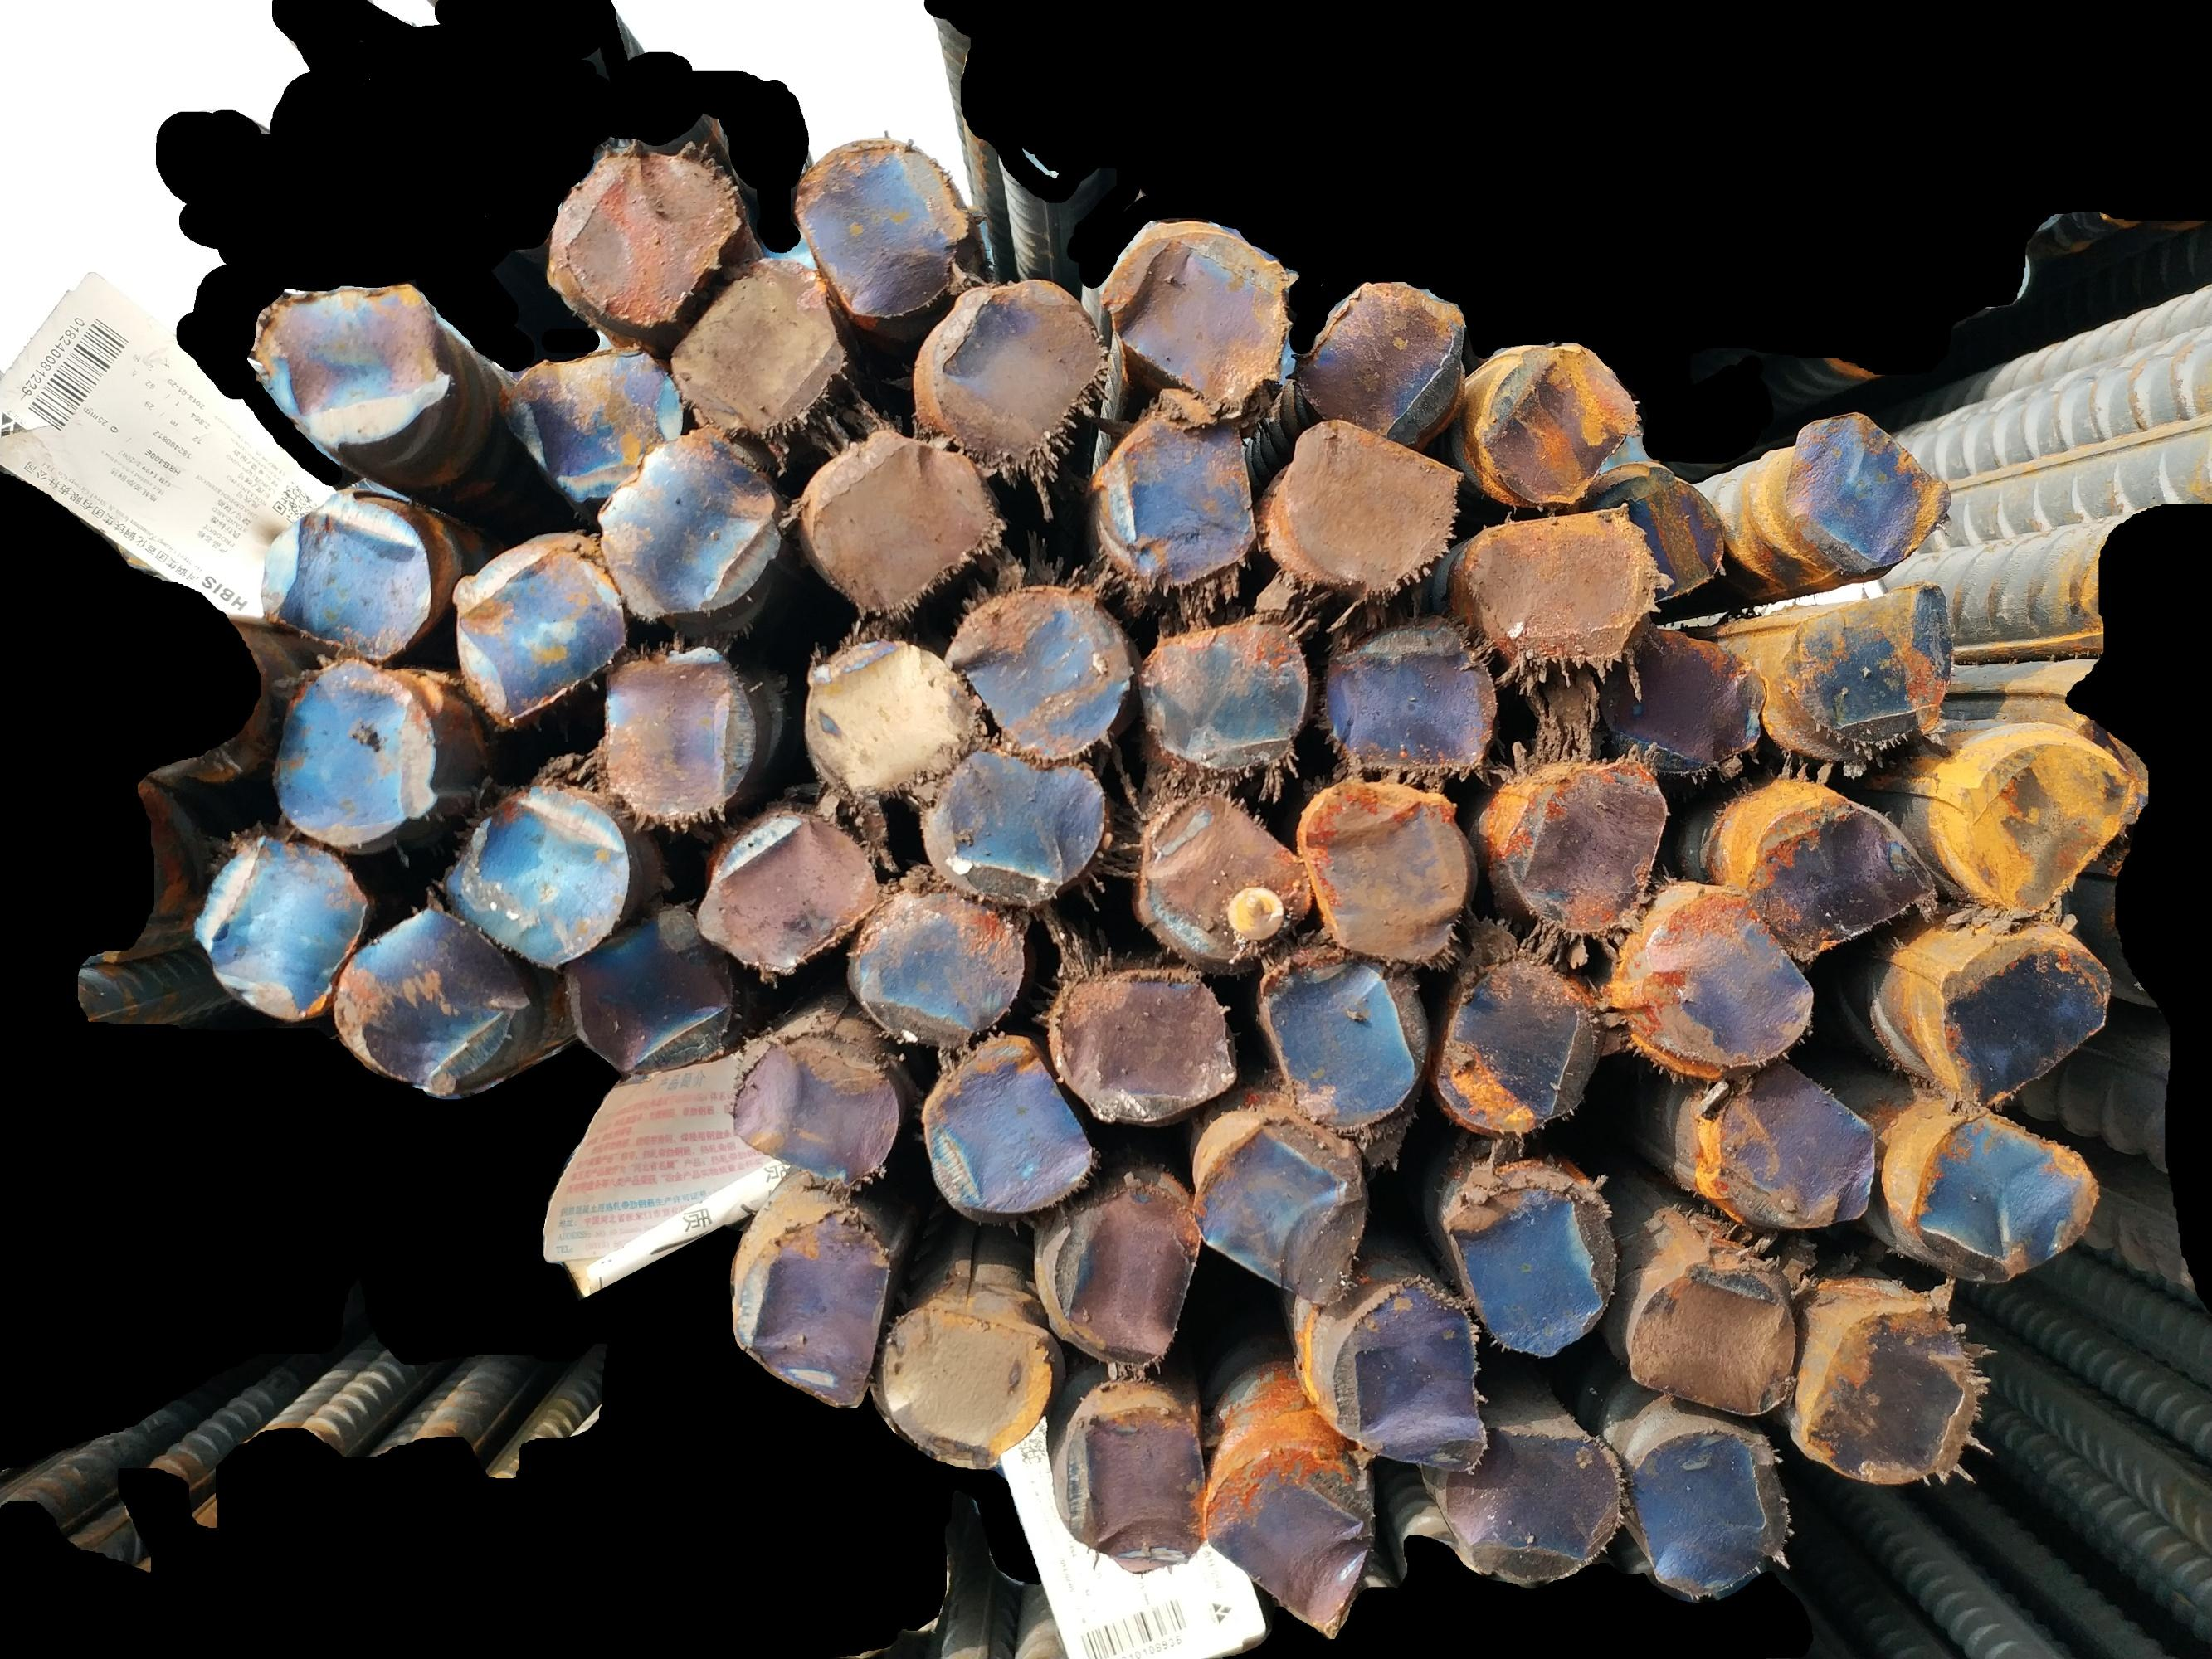bar: (1096, 209, 1306, 429), (539, 131, 753, 336), (1928, 728, 2144, 931), (1604, 880, 1825, 1077), (795, 423, 1011, 624), (326, 899, 533, 1100), (912, 274, 1121, 472), (593, 415, 786, 629), (933, 570, 1140, 767), (1262, 411, 1471, 606), (1191, 1436, 1386, 1645), (1086, 385, 1269, 601), (1410, 1412, 1628, 1593), (784, 127, 981, 328), (1459, 497, 1673, 680), (718, 1201, 901, 1415), (1292, 767, 1482, 972), (1797, 1293, 1992, 1492), (1487, 744, 1680, 943), (446, 526, 634, 730), (261, 650, 446, 857), (239, 277, 457, 451), (1041, 951, 1250, 1133), (1314, 1270, 1496, 1480), (439, 777, 631, 974), (1124, 779, 1321, 971), (661, 247, 849, 448), (1907, 1103, 2107, 1291), (1248, 934, 1431, 1140), (917, 1025, 1107, 1222), (187, 828, 375, 1026), (1428, 939, 1609, 1145), (1773, 570, 1964, 762), (1734, 795, 1945, 969), (1185, 1119, 1372, 1314), (685, 803, 887, 983), (1930, 924, 2120, 1114), (554, 890, 743, 1082), (1037, 1169, 1210, 1378), (1433, 1171, 1621, 1363), (919, 734, 1116, 915), (795, 633, 988, 816), (1313, 606, 1511, 784), (1464, 338, 1666, 512), (254, 476, 444, 660), (840, 875, 1032, 1056), (692, 807, 891, 981), (865, 1300, 1062, 1474), (493, 338, 692, 507), (1703, 1054, 1884, 1237), (598, 638, 762, 835), (1135, 601, 1314, 781), (1588, 615, 1774, 786), (1616, 1253, 1808, 1419), (1623, 1420, 1790, 1608), (1281, 275, 1469, 441), (722, 1025, 906, 1192), (1776, 403, 1961, 570), (1053, 1399, 1215, 1582), (1567, 457, 1731, 613)
